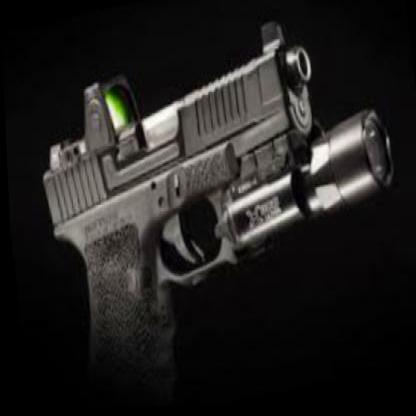pistol: (25, 0, 414, 410)
